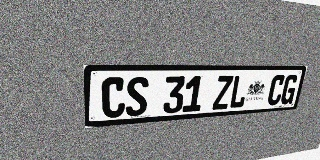1: (182, 76, 204, 112)
3: (163, 76, 185, 114)
C: (101, 77, 126, 118), (266, 75, 286, 106)
G: (279, 74, 299, 105)
L: (228, 75, 250, 109)
S: (125, 77, 149, 117)
Z: (212, 75, 234, 110)
